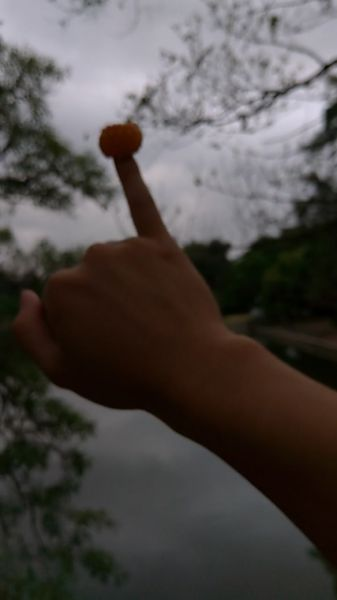eggs: (99, 124, 145, 158)
